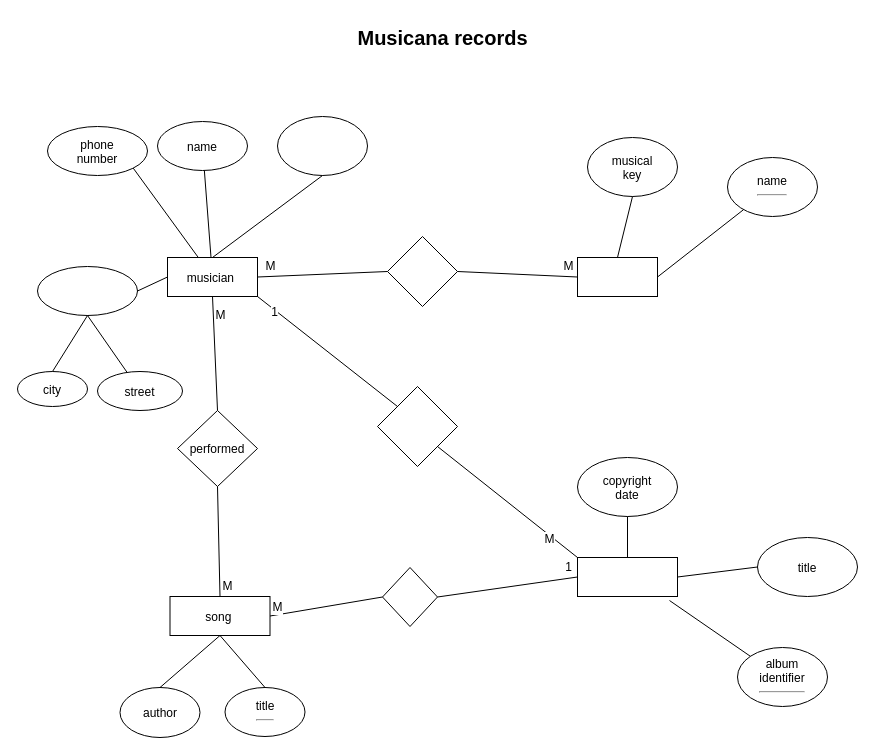
The diagram is 875 pixels wide and 755 high, and some of its shapes have lost their labels. Each missing label, with the centre of its shape:
address: pixel 87 291
album: pixel 627 576
has: pixel 410 596
ID number: pixel 322 146
instrument: pixel 617 276
play: pixel 422 271
produce: pixel 417 426
